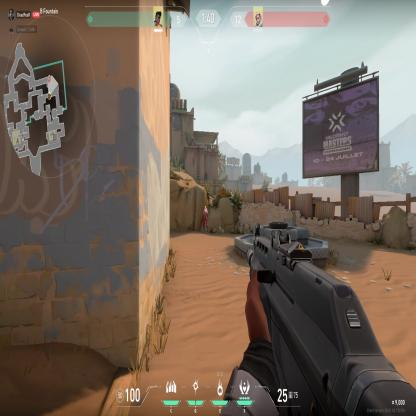enemy: (203, 205, 209, 234)
